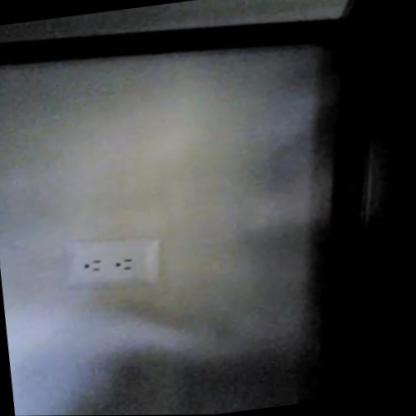OUTLET: (55, 227, 163, 295)
